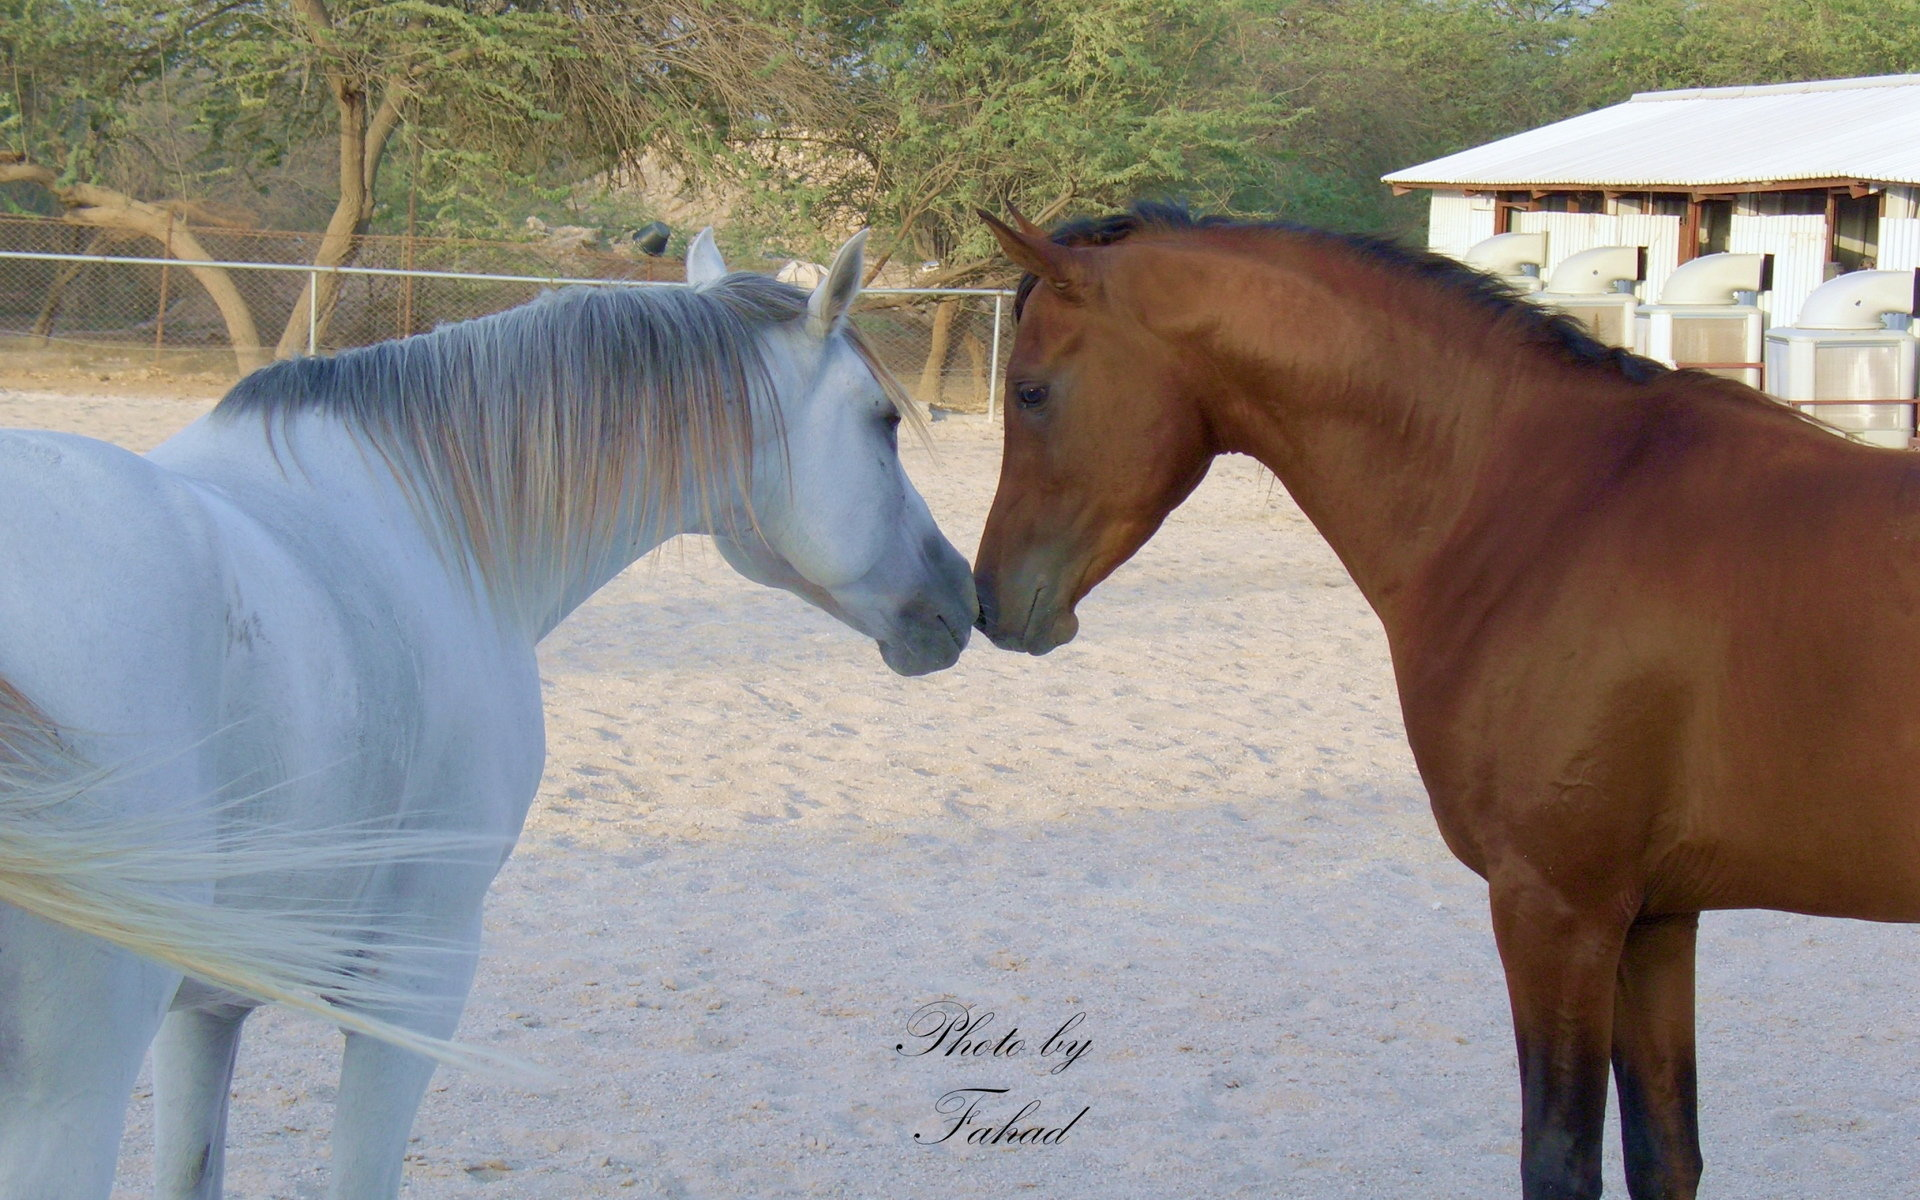horse: (1, 220, 987, 1200), (965, 189, 1920, 1200)
